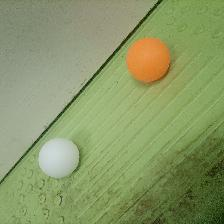WhiteBall: (37, 138, 79, 177)
YellowBall: (125, 38, 169, 81)
